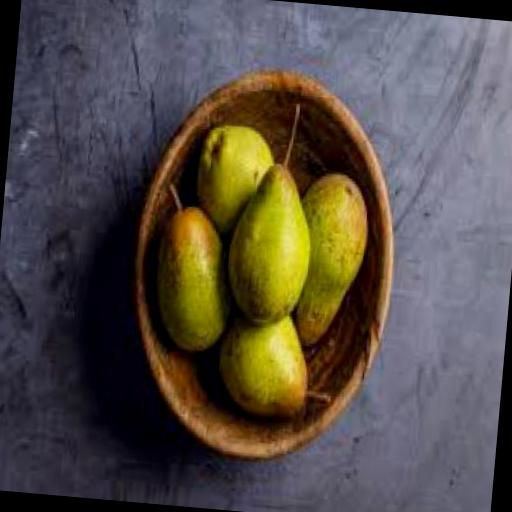biodegradable: (226, 96, 326, 326), (154, 180, 248, 350), (215, 305, 342, 421), (293, 169, 374, 348), (196, 118, 280, 239)
